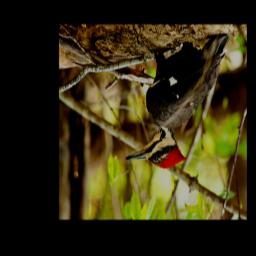Woodpecker: (124, 33, 229, 168)
